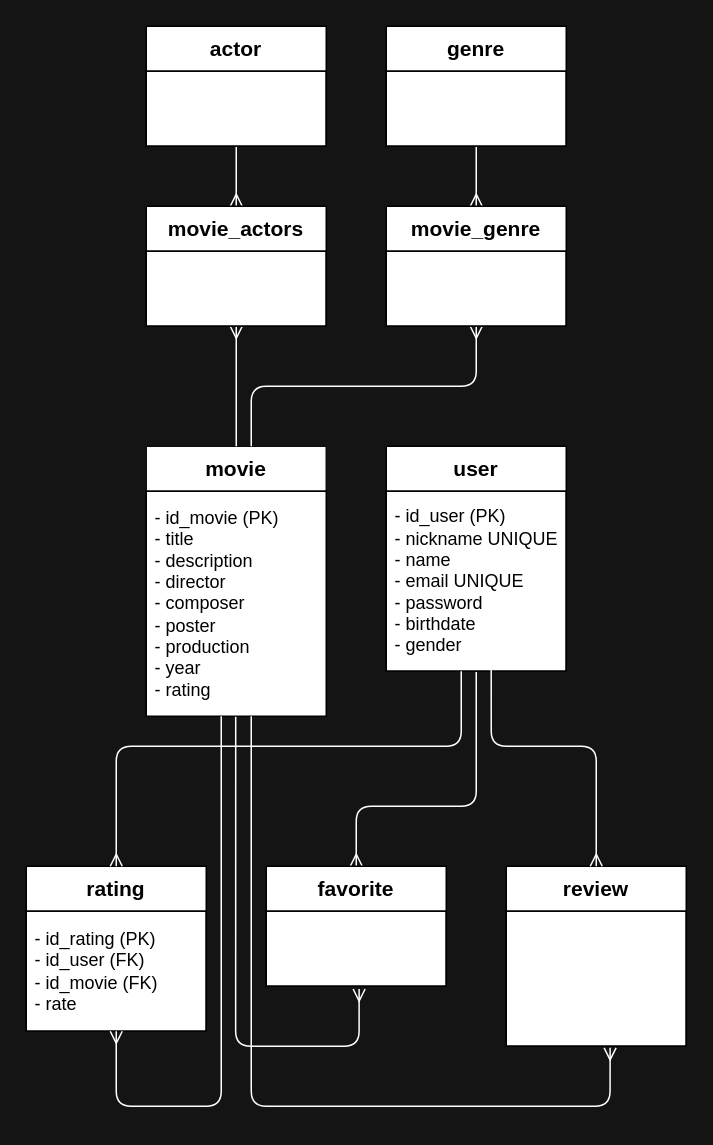
The diagram is 713 pixels wide and 1145 high, and some of its shapes have lost their labels. Each missing label, with the centre of its shape:
"- id_actor (PK) - name" goes at [235,108].
"- id_genre (PK) - name" goes at [475,108].
"- id_movie (PK) - id_actor (PK)" goes at [235,288].
"- id_movie (PK) - id_genre (PK)" goes at [475,288].
"- id_review (PK) - id_user (FK) - id_movie (FK) - text - created_at" goes at [595,978].
"- id_user (PK) - id_movie (PK)" goes at [355,948].
